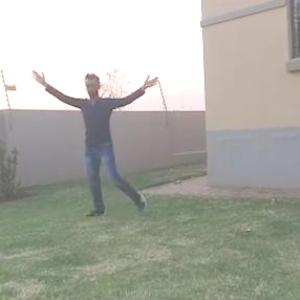takeoff: (28, 68, 165, 212)
